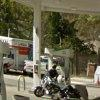motorcycles: (33, 74, 95, 100)
